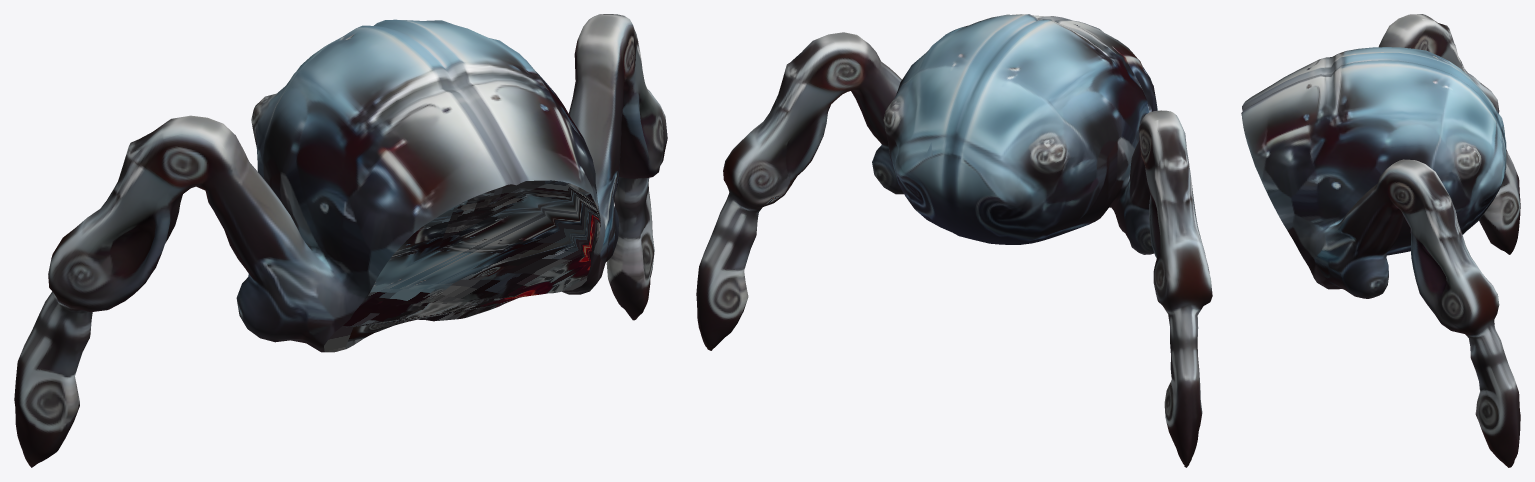
Rendered from spider2back-compressed.glb.
3 views of the same model, side by side, from view 1: azimuth 30°, elevation 25°; view 2: azimuth 150°, elevation 25°; view 3: azimuth 270°, elevation 25° (orthographic). The views are drawn at different scales.
Parts seen in each view (by area): view 1: Object_2_cell; view 2: Object_2_cell; view 3: Object_2_cell.
Boxes of the visible parts, left/top/right/bottom form: Object_2_cell: left=14, top=14, right=667, bottom=467; Object_2_cell: left=696, top=14, right=1212, bottom=467; Object_2_cell: left=1241, top=14, right=1520, bottom=467.
Bounding box in the file's own units: 1.14 × 0.7145 × 0.5946.
1 material, 1 textured.
